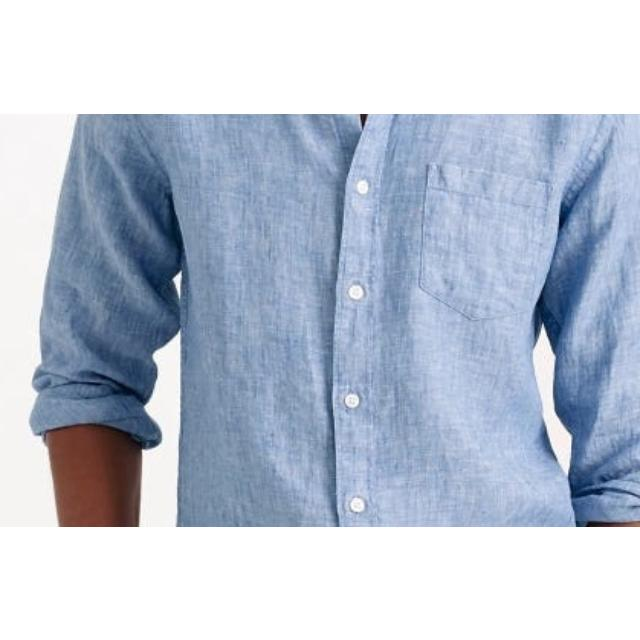linen: (25, 114, 640, 526)
